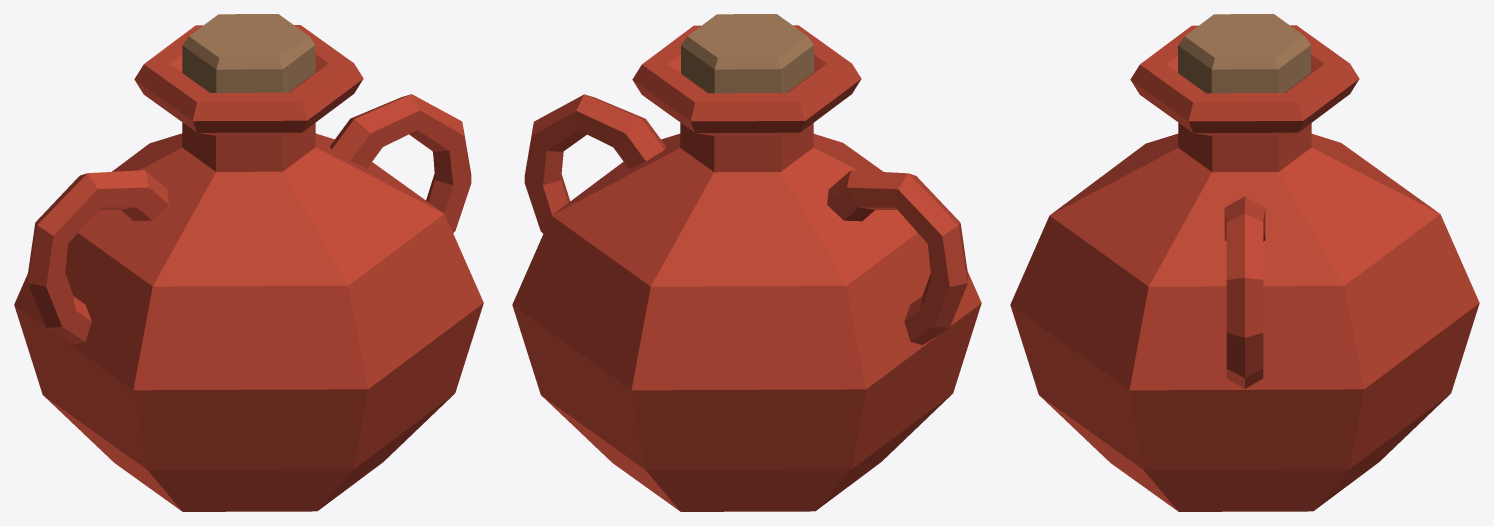
Rendered from potion_9_handles.glb.
The picture shows the model from 3 angles, left to right: view 1: azimuth 30°, elevation 25°; view 2: azimuth 150°, elevation 25°; view 3: azimuth 270°, elevation 25°; orthographic projection.
Parts seen in each view (by area): view 1: potion_9_handles; view 2: potion_9_handles; view 3: potion_9_handles.
Part boxes in pixels (left/top/right/bottom): potion_9_handles: left=14, top=14, right=483, bottom=511; potion_9_handles: left=512, top=14, right=981, bottom=511; potion_9_handles: left=1010, top=14, right=1479, bottom=511.
Bounding box in the file's own units: 0.2259 × 0.2077 × 0.2073.
Materials: 2 (2 with a texture image).
